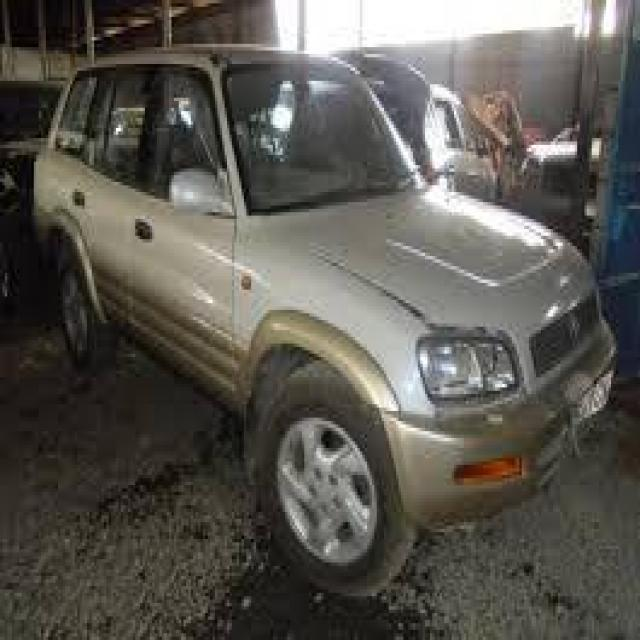damaged: (538, 374, 594, 462)
